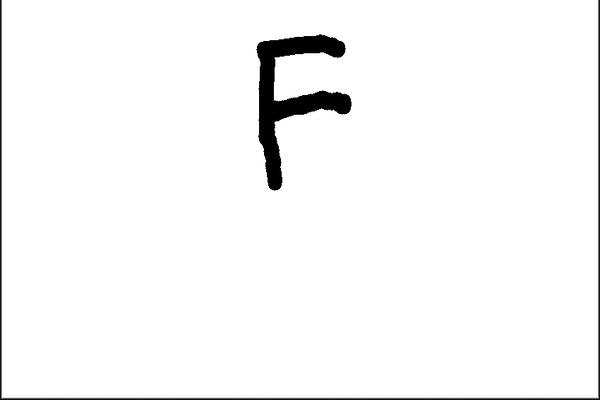F: (250, 29, 356, 194)
